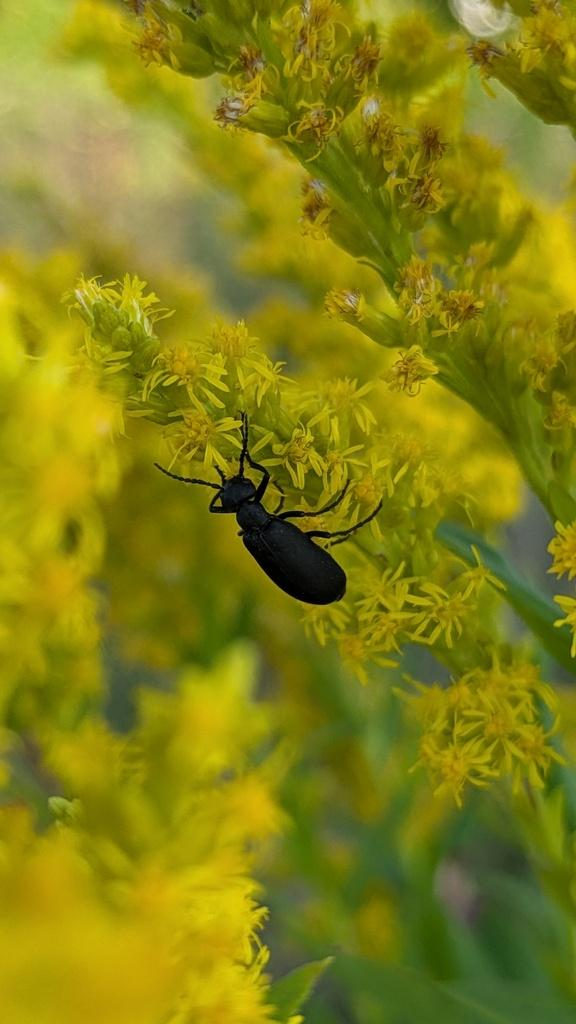blister_beetle: (117, 370, 422, 648)
